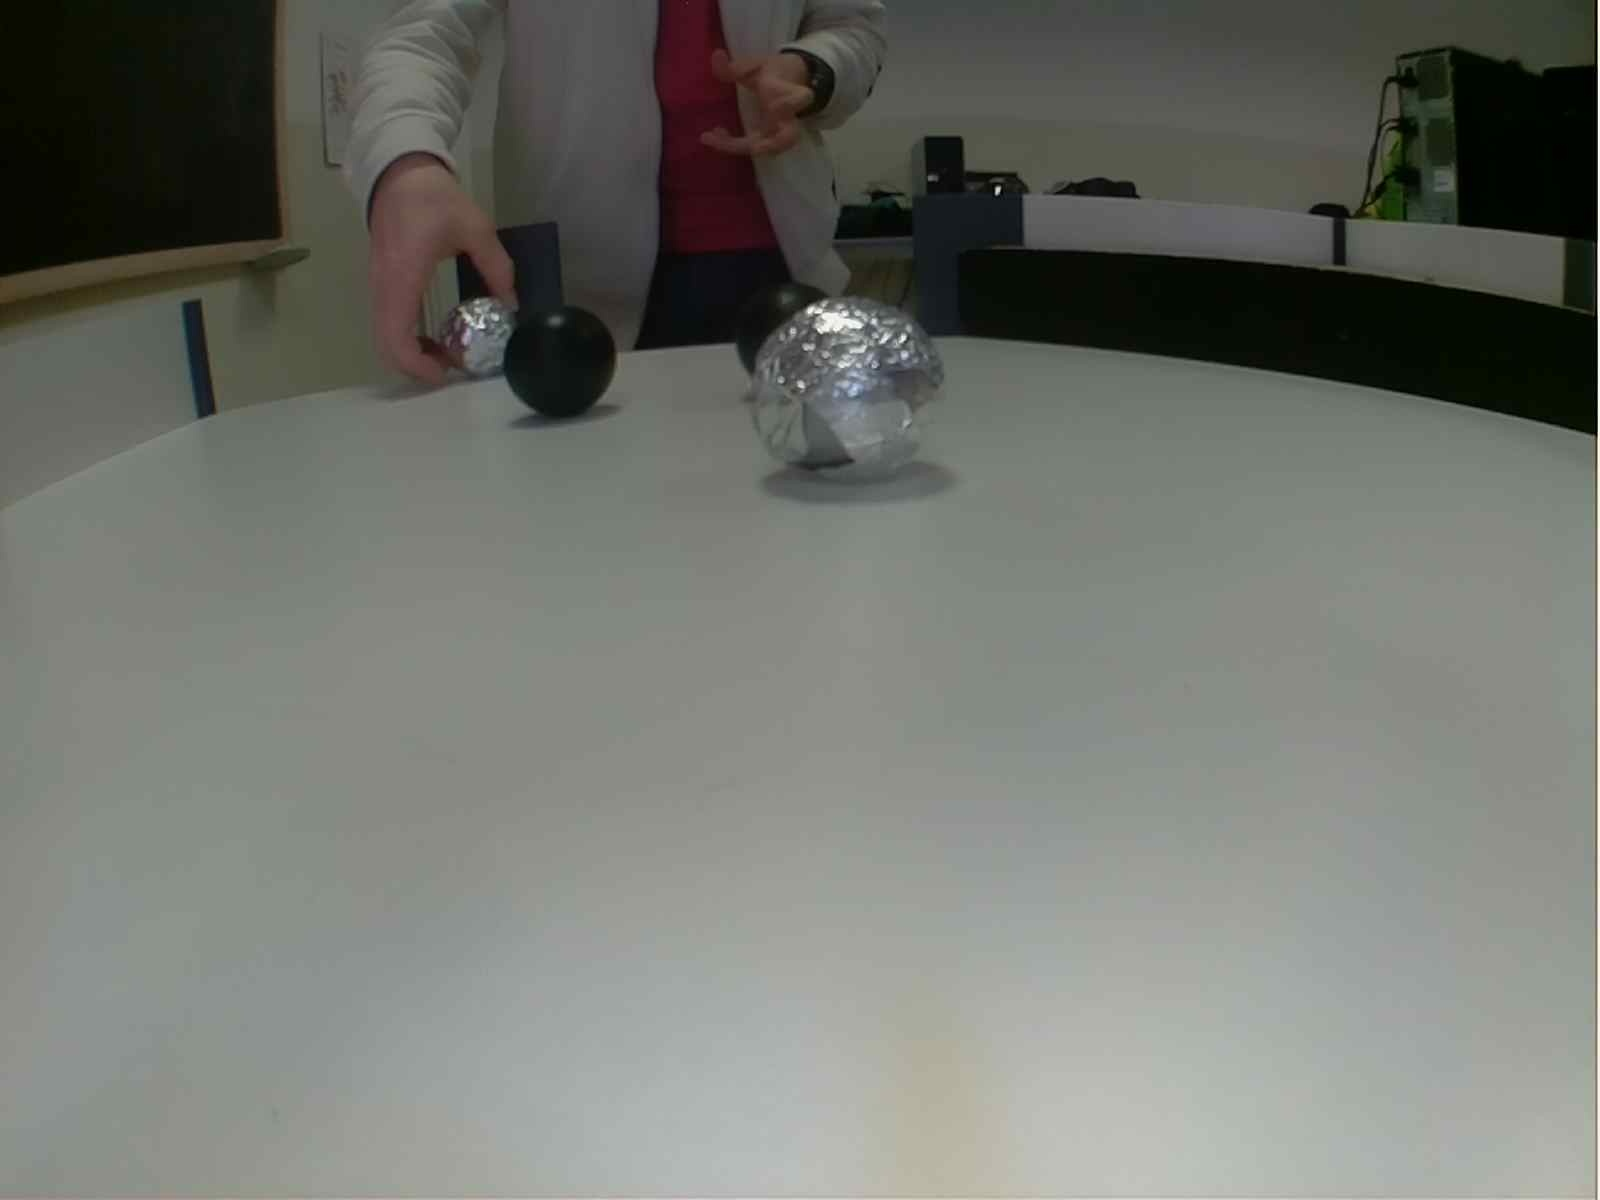bianca: (753, 299, 940, 487), (443, 295, 527, 377)
nera: (505, 303, 627, 425), (728, 280, 823, 376)
